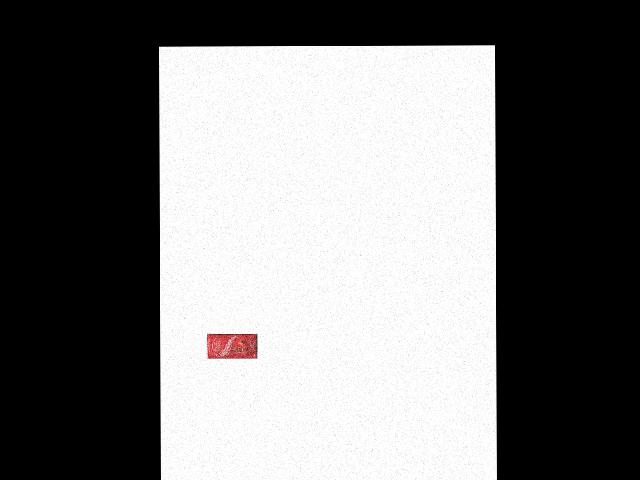chocolate: (205, 333, 261, 360)
